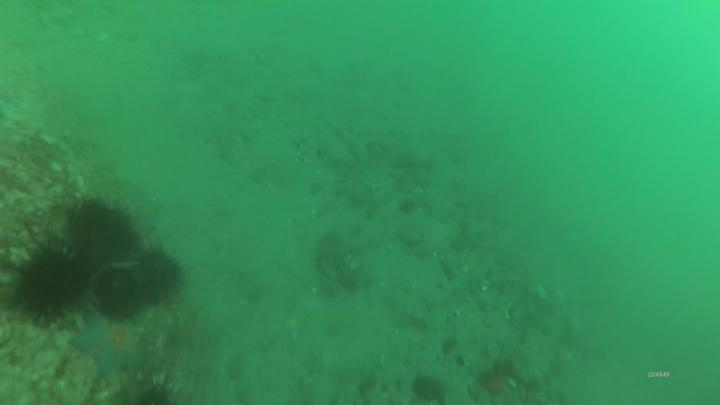echinus: (7, 245, 99, 324), (60, 196, 138, 257), (122, 246, 186, 308), (91, 261, 150, 320), (127, 382, 179, 405)
starfish: (69, 311, 153, 384)
